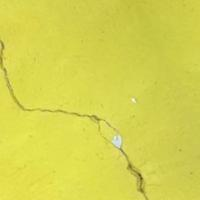crack: (0, 35, 160, 199)
